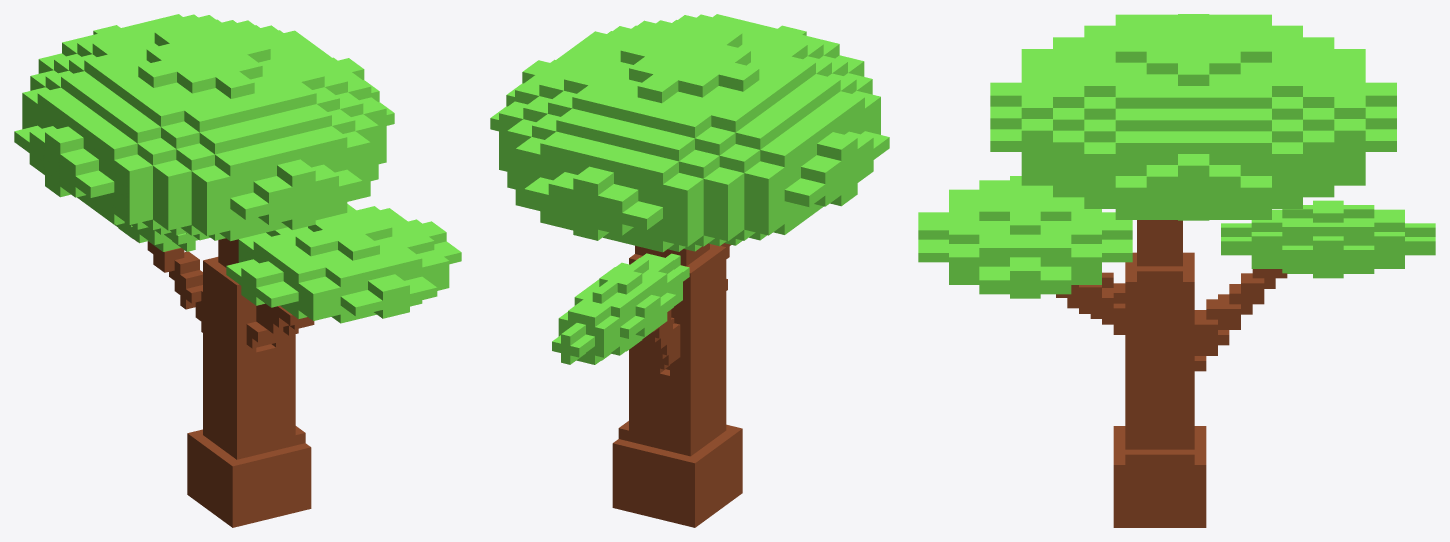
The model's file is tree.fbx.
The picture shows the model from 3 angles, left to right: view 1: azimuth 30°, elevation 25°; view 2: azimuth 150°, elevation 25°; view 3: azimuth 270°, elevation 25°; orthographic projection. The views are drawn at different scales.
Visible parts, largest first — view 1: Leaves3, Trunk, Leaves1, Leaves2; view 2: Leaves3, Trunk, Leaves2; view 3: Leaves3, Trunk, Leaves1, Leaves2.
Part boxes in pixels (<box>): Leaves3: <box>14,14,394,241</box>; Trunk: <box>132,238,314,527</box>; Leaves1: <box>226,204,461,323</box>; Leaves2: <box>114,222,198,251</box>; Leaves3: <box>490,14,889,252</box>; Trunk: <box>612,243,742,527</box>; Leaves2: <box>552,253,689,364</box>; Leaves3: <box>990,14,1396,220</box>; Trunk: <box>1056,220,1287,527</box>; Leaves1: <box>918,176,1132,298</box>; Leaves2: <box>1221,200,1435,278</box>.
Bounding box in the file's own units: 1066 × 1470 × 1537.
